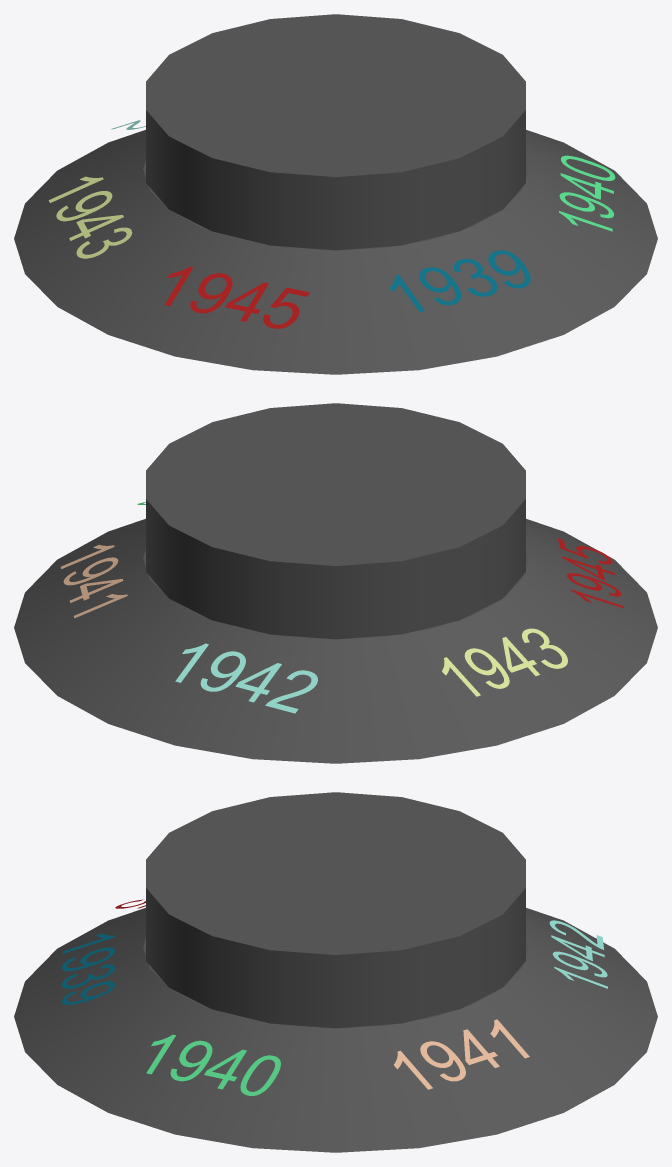
The model's file is YearDial.DAE.
3 renders of one model, top to bottom at view 1: azimuth 30°, elevation 25°; view 2: azimuth 150°, elevation 25°; view 3: azimuth 270°, elevation 25°, orthographic.
Visible parts, largest first — view 1: Cone001, Cylinder001, Text008, Text003, Text006, Text002; view 2: Cone001, Cylinder001, Text005, Text006, Text004, Text008; view 3: Cone001, Cylinder001, Text002, Text004, Text003, Text005.
Part boxes in pixels (x1,y1,x2,y2): Cone001: [14, 130, 657, 374]; Cylinder001: [146, 14, 525, 250]; Text008: [165, 266, 309, 328]; Text003: [389, 250, 530, 311]; Text006: [48, 176, 132, 258]; Text002: [559, 155, 615, 231]; Cone001: [14, 519, 657, 763]; Cylinder001: [146, 403, 525, 639]; Text005: [175, 643, 317, 713]; Text006: [442, 628, 567, 696]; Text004: [60, 544, 127, 618]; Text008: [557, 538, 623, 608]; Cone001: [14, 908, 657, 1152]; Cylinder001: [146, 792, 525, 1028]; Text002: [146, 1034, 280, 1095]; Text004: [394, 1019, 529, 1089]; Text003: [61, 933, 115, 1004]; Text005: [549, 920, 607, 988].
Size of the model in its own units: 98.16 by 98.16 by 24.07.
